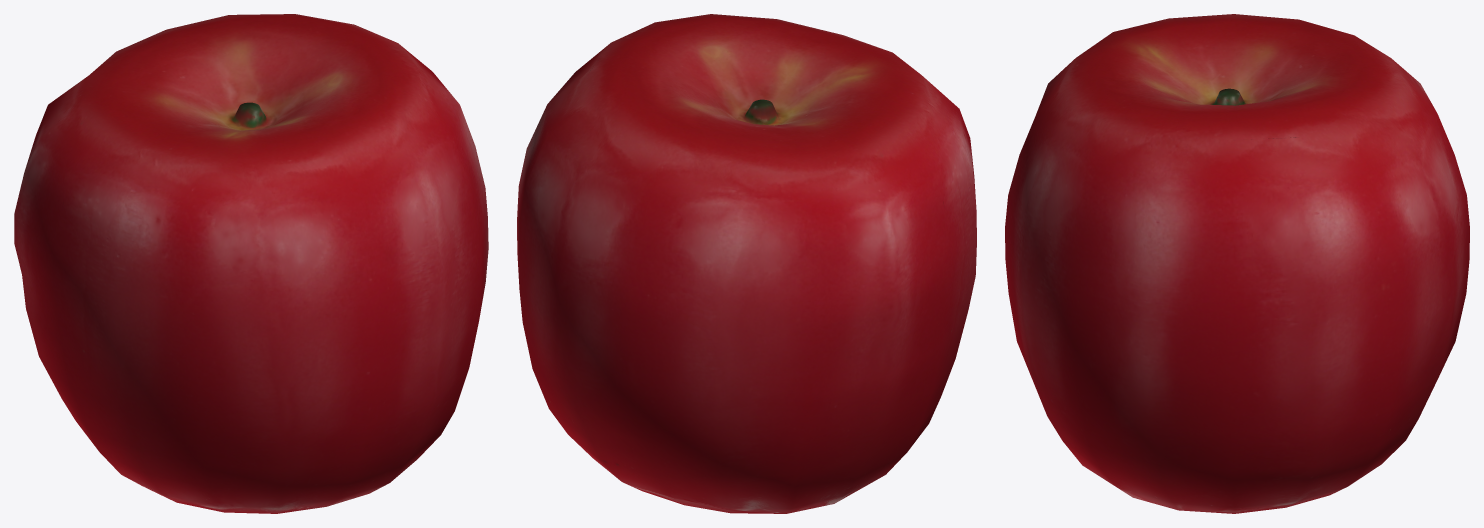
File: 013_apple.dae
The picture shows the model from 3 angles, left to right: view 1: azimuth 30°, elevation 25°; view 2: azimuth 150°, elevation 25°; view 3: azimuth 270°, elevation 25°; orthographic projection.
Visible parts, largest first — view 1: 013_apple; view 2: 013_apple; view 3: 013_apple.
Boxes of the visible parts, <box> form: 013_apple: <box>14,14,488,513</box>; 013_apple: <box>517,14,976,513</box>; 013_apple: <box>1005,14,1469,513</box>.
Size of the model in its own units: 0.0761 by 0.0755 by 0.0722.
Materials: 1 (1 with a texture image).
